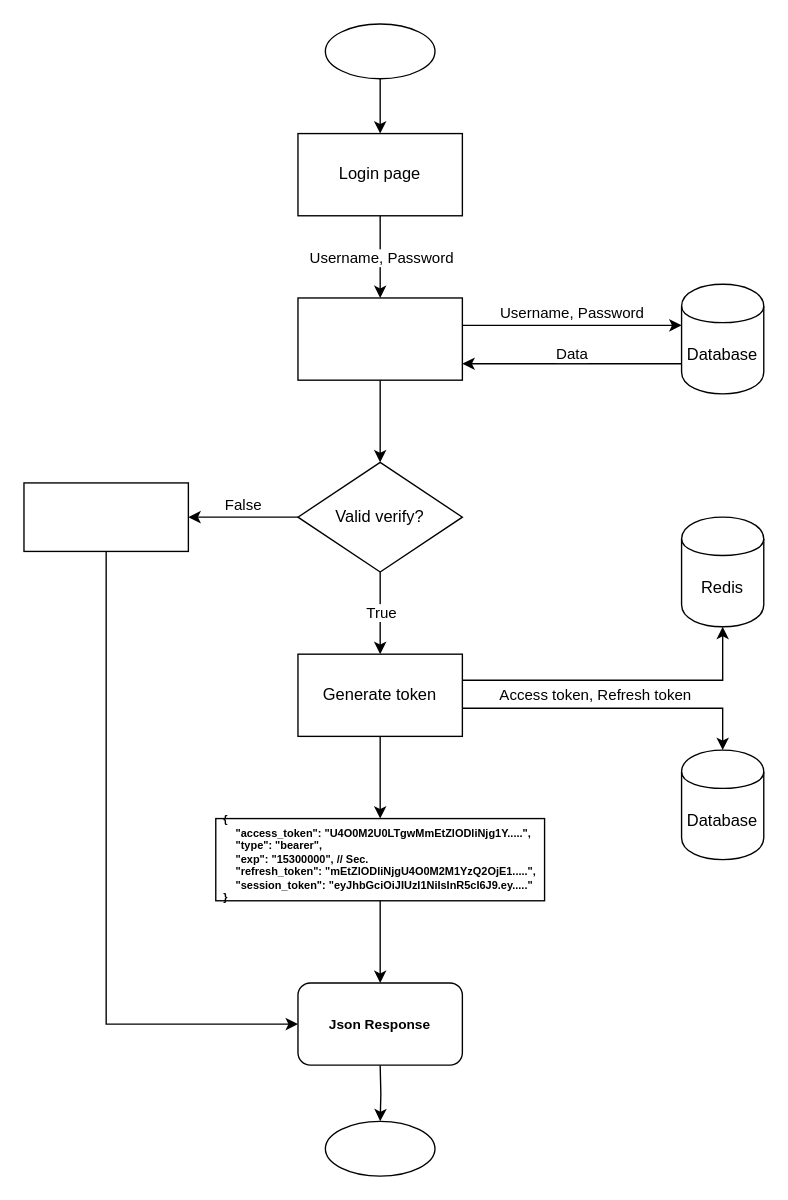
This 788x1200 diagram has some shape labels left out. Here are the shapes that lost their labels. From the top down, the box of each, then its label:
(324, 23, 435, 79): Start
(297, 297, 462, 380): /oauth/v1/login Verify
(23, 482, 188, 551): { "message": "Unauthorized", "code": "401" }
(324, 1120, 435, 1176): End
